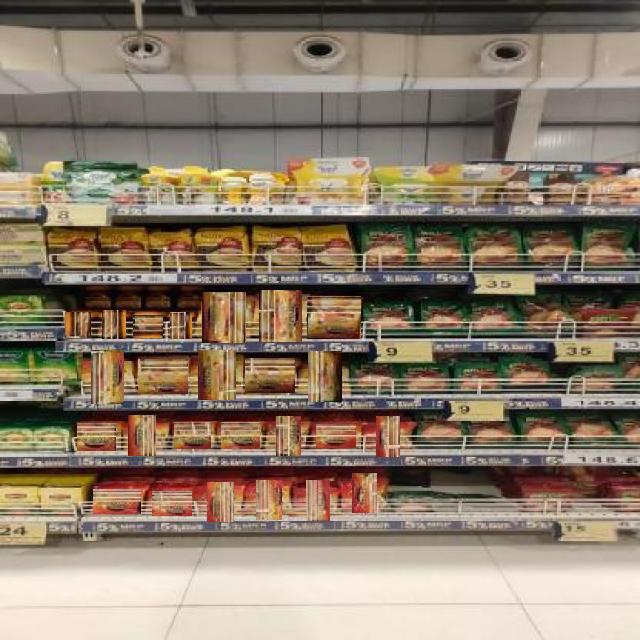Coffee: (307, 295, 361, 339), (258, 290, 302, 342), (202, 291, 246, 343), (198, 349, 236, 400), (137, 358, 188, 394), (90, 350, 124, 404), (244, 358, 295, 393), (307, 351, 342, 402), (92, 488, 141, 514), (76, 422, 116, 451), (207, 481, 234, 522), (129, 415, 156, 456), (220, 422, 260, 449), (151, 490, 192, 516), (275, 416, 301, 456), (256, 480, 282, 520), (315, 423, 356, 448), (174, 422, 211, 449), (306, 481, 330, 521), (352, 473, 376, 513), (377, 416, 400, 457), (132, 314, 163, 338), (66, 311, 91, 338), (102, 311, 126, 339), (169, 312, 192, 339)
